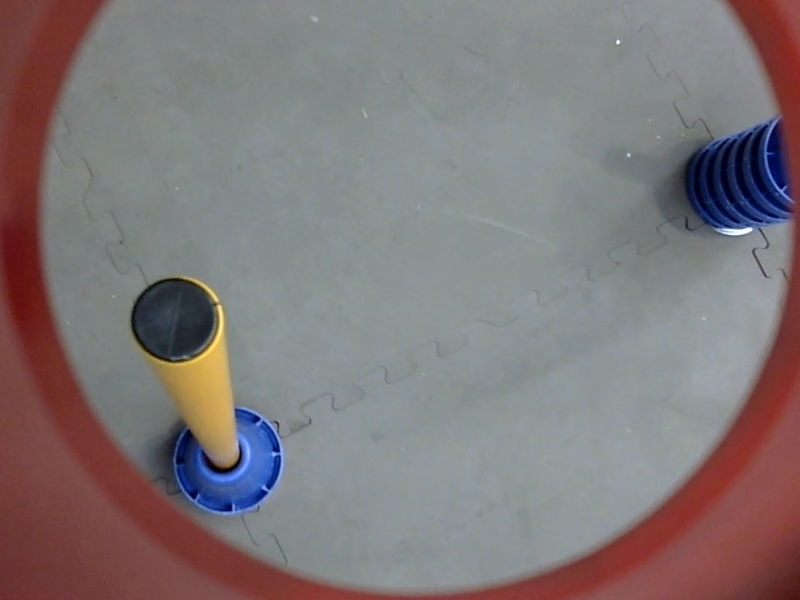tip: (126, 270, 225, 370)
